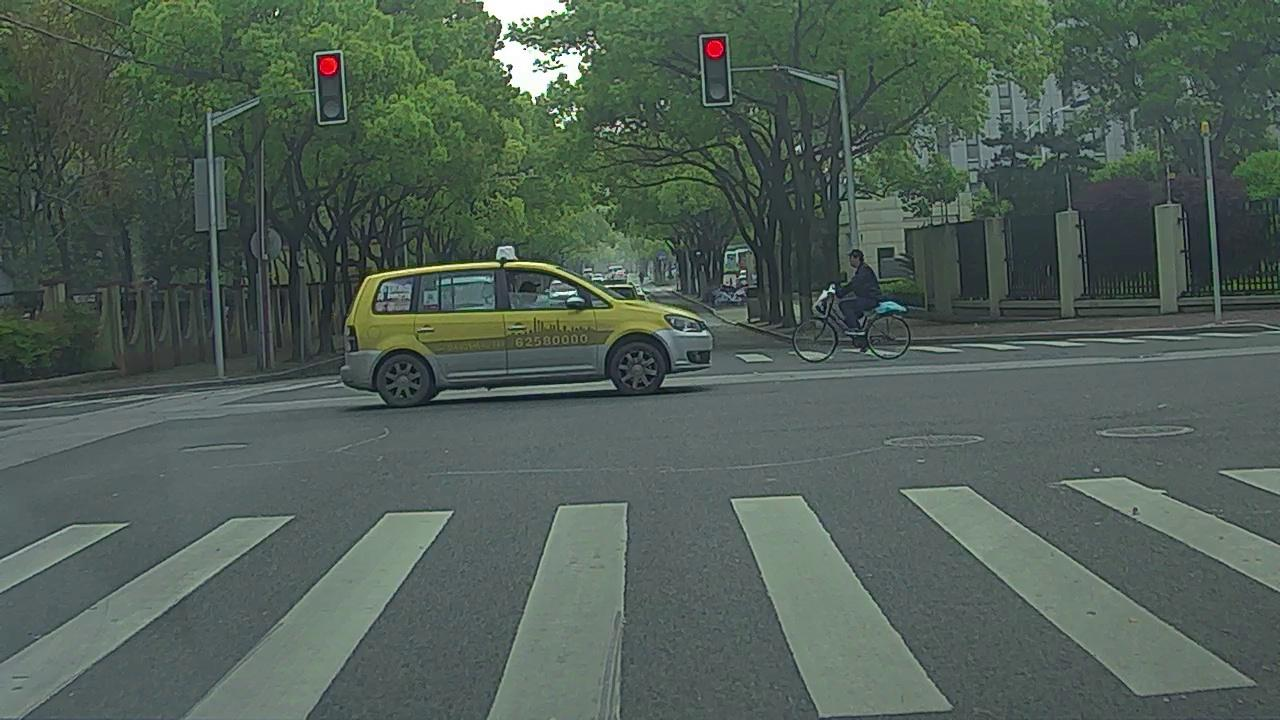traffic_light: (703, 38, 732, 103), (316, 55, 343, 118)
